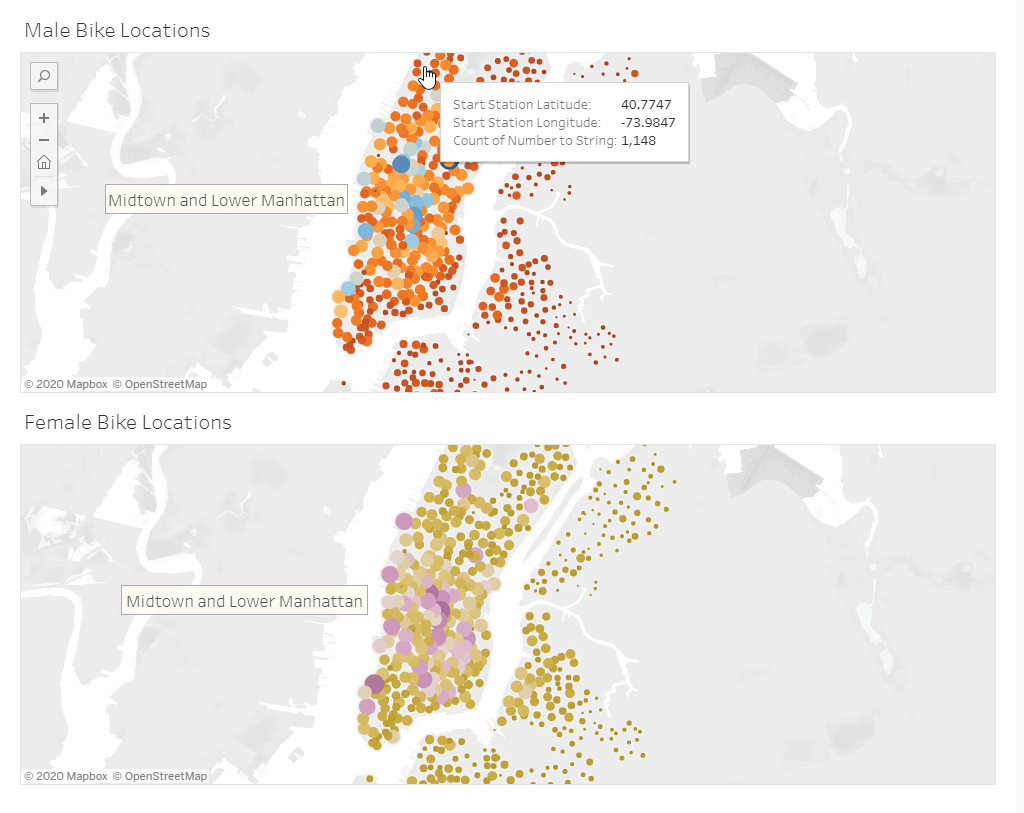

The page's visual inventory and layout, read from the dashboard file:
{"tool":"tableau","page":{"name":"Where to bike for both genders","canvas":[1000,800],"ordinal":5},"visuals":[{"type":"worksheet","title":"Male-Subscribers Bike Locations","mark":"Automatic","rows":["start station latitude"],"cols":["start station longitude"],"box":[8,8,984,392]},{"type":"worksheet","title":"Female-Subscribers Bike Locations","mark":"Automatic","rows":["start station latitude"],"cols":["start station longitude"],"box":[8,400,984,392]}]}

Visuals, with their boxes in screenshot pixels (x1, y1, x2, y2), scaled from the page's 1000x800 canvas onto the 1024x813 screenshot:
"Male-Subscribers Bike Locations" worksheet: {"x1": 8, "y1": 8, "x2": 1016, "y2": 407}
"Female-Subscribers Bike Locations" worksheet: {"x1": 8, "y1": 407, "x2": 1016, "y2": 805}
